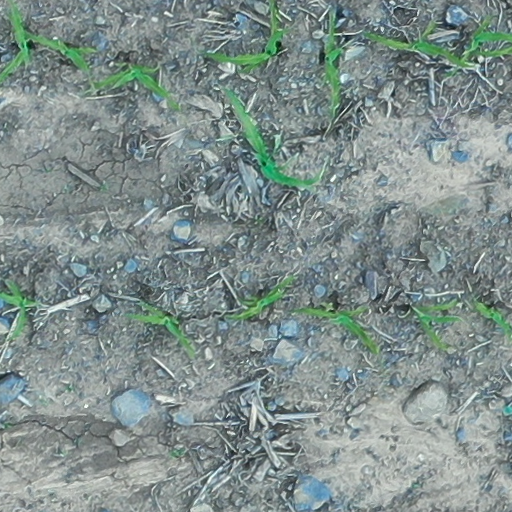planta: (366, 22, 474, 68), (94, 64, 180, 109), (298, 306, 378, 352), (125, 303, 193, 354), (21, 30, 97, 71), (226, 276, 291, 321), (416, 299, 461, 349), (324, 14, 341, 111)
